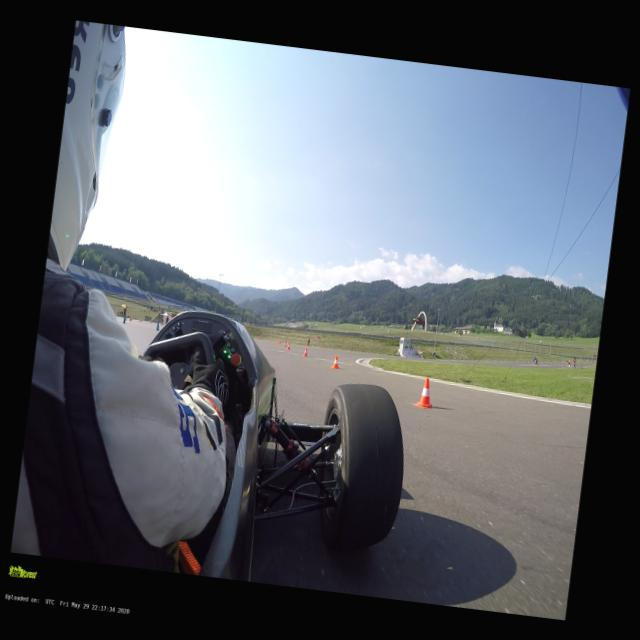orange_cone: (414, 378, 435, 410), (330, 355, 340, 369), (302, 347, 308, 356), (286, 342, 290, 348), (283, 341, 286, 346), (274, 339, 278, 342), (278, 339, 280, 342)
